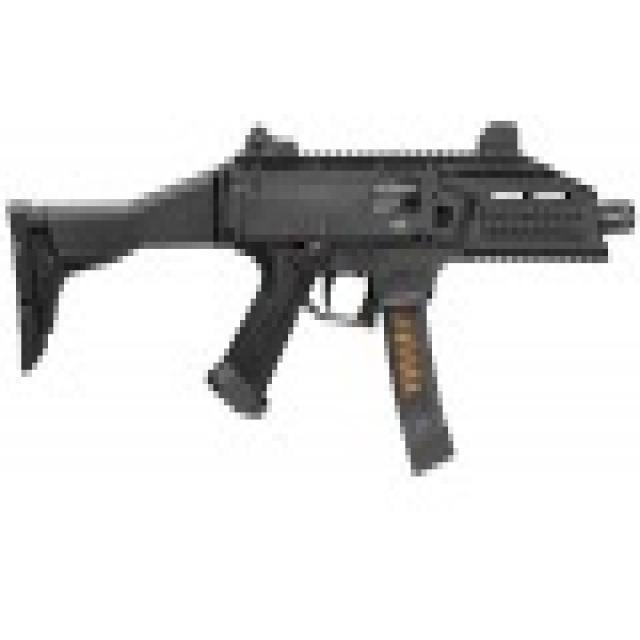Gun: (15, 76, 635, 472)
